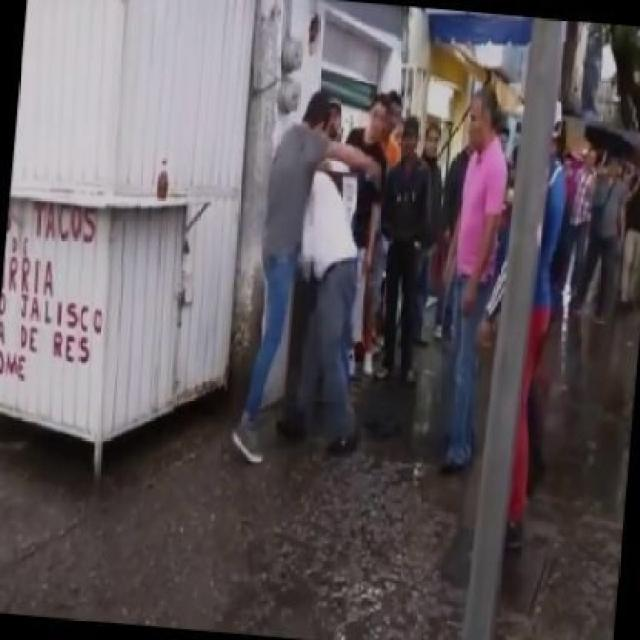fight: (215, 76, 408, 476)
non-fight: (428, 51, 515, 483)
